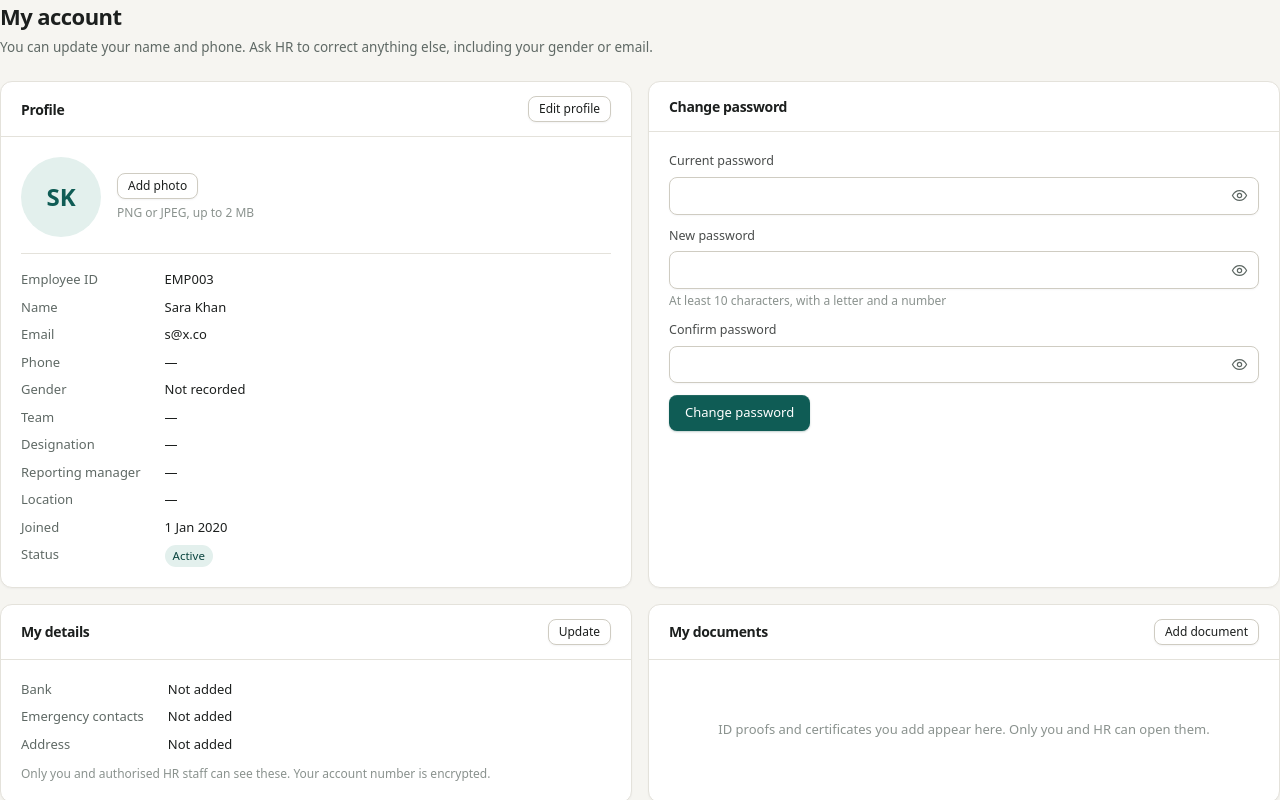
Scenario: editing my own profile › gives an employee name and phone only
What coordinates should you click on to do the following:
click the button "Edit profile"
I would click on:
 (570, 109)
Its box is [528,96,611,122].
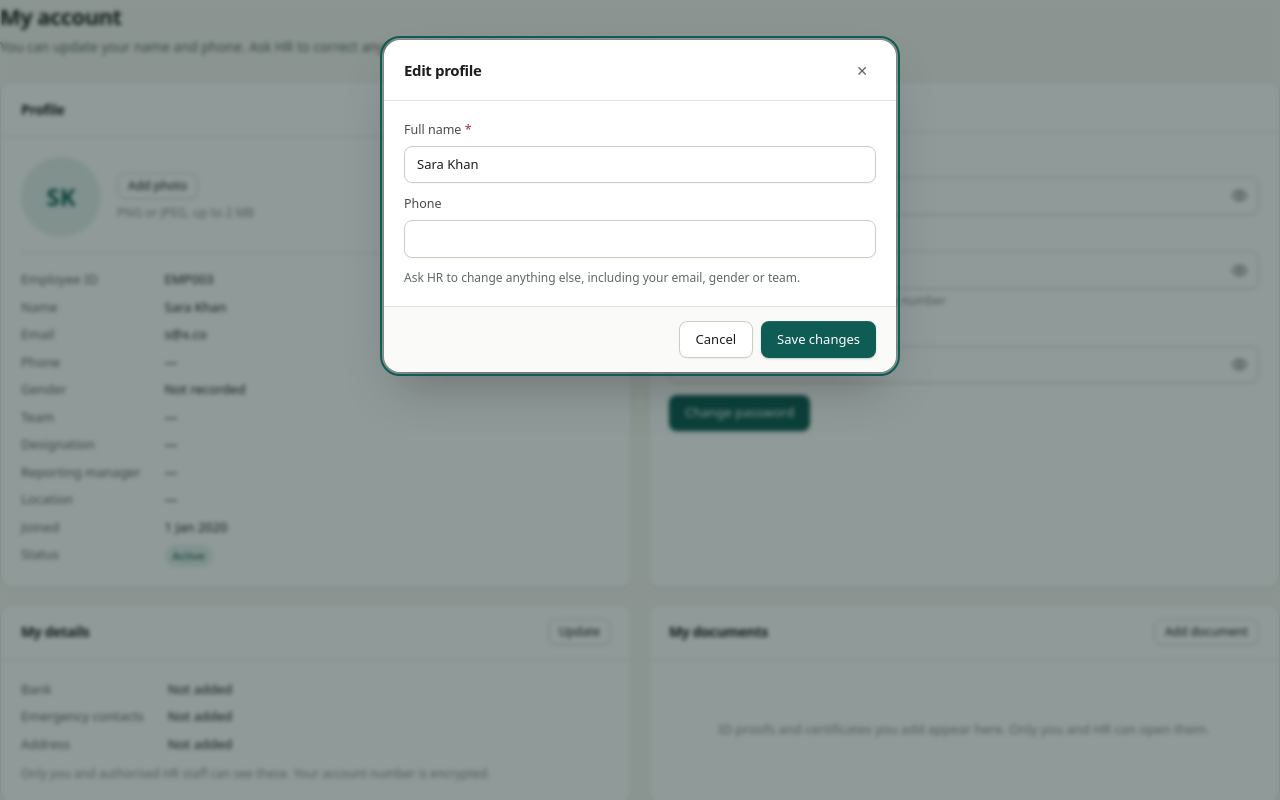
Expected: the field labelled "Full name *" is shown, [404,146,876,183]
Expected: the field labelled "Phone" is shown, [404,220,876,258]
